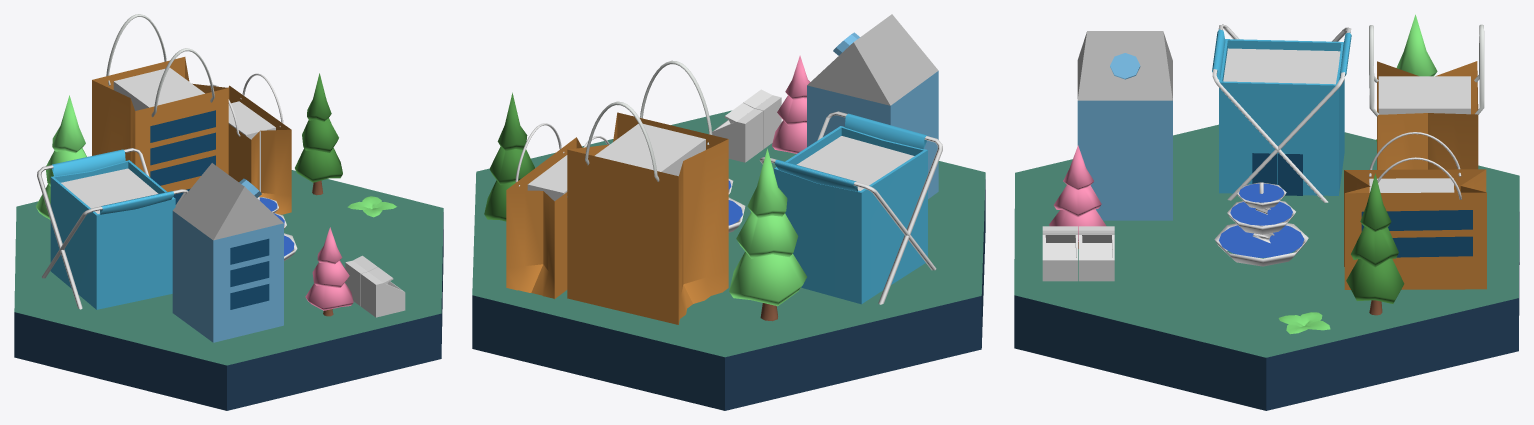
The model's file is Macro - Shop lvl 3 WM1.fbx.
3 views of the same model, side by side, from view 1: azimuth 30°, elevation 25°; view 2: azimuth 150°, elevation 25°; view 3: azimuth 270°, elevation 25° (orthographic). The views are drawn at different scales.
Parts seen in each view (by area): view 1: Cylinder.179, bathroom_item_001.001, milkbox1.012, Circle.006, Circle.005, Tree_Spruce_tiny_01.007, Tree_Spruce_tiny_01.001, Plane.122, Cube.138, Tree_Spruce_tiny_01.005, Cube.005, Plane.007 (+9 smaller); view 2: Cylinder.179, Circle.006, bathroom_item_001.001, milkbox1.012, Circle.005, Tree_Spruce_tiny_01.005, Cube.138, Plane.122, Tree_Spruce_tiny_01.007, Tree_Spruce_tiny_01.001, Cube.006, Cube.005 (+2 smaller); view 3: Cylinder.179, milkbox1.012, bathroom_item_001.001, Circle.005, Circle.006, Cube.018, Tree_Spruce_tiny_01.007, Plane.122, Cube.138, Tree_Spruce_tiny_01.001, Cube.005, Cube.006 (+7 smaller).
Boxes of the visible parts, <box> form: Cylinder.179: <box>14,170,443,410</box>; bathroom_item_001.001: <box>37,148,188,309</box>; milkbox1.012: <box>172,163,283,342</box>; Circle.006: <box>92,14,228,191</box>; Circle.005: <box>210,73,291,214</box>; Tree_Spruce_tiny_01.007: <box>295,73,342,195</box>; Tree_Spruce_tiny_01.001: <box>305,227,353,316</box>; Plane.122: <box>61,168,158,213</box>; Cube.138: <box>113,67,204,110</box>; Tree_Spruce_tiny_01.005: <box>36,95,86,219</box>; Cube.005: <box>360,267,405,317</box>; Plane.007: <box>150,110,215,142</box>; Cylinder.179: <box>472,110,985,410</box>; Circle.006: <box>567,60,728,324</box>; bathroom_item_001.001: <box>759,111,942,304</box>; milkbox1.012: <box>807,14,938,198</box>; Circle.005: <box>506,123,609,298</box>; Tree_Spruce_tiny_01.005: <box>729,148,806,321</box>; Cube.138: <box>595,124,705,176</box>; Plane.122: <box>796,136,914,190</box>; Tree_Spruce_tiny_01.007: <box>484,92,534,221</box>; Tree_Spruce_tiny_01.001: <box>772,55,810,153</box>; Cube.006: <box>712,103,763,162</box>; Cube.005: <box>743,89,781,149</box>; Cylinder.179: <box>1014,124,1519,410</box>; milkbox1.012: <box>1077,31,1172,220</box>; bathroom_item_001.001: <box>1212,24,1351,202</box>; Circle.005: <box>1344,132,1486,289</box>; Circle.006: <box>1369,24,1484,169</box>; Cube.018: <box>1214,182,1308,266</box>; Tree_Spruce_tiny_01.007: <box>1346,173,1404,315</box>; Plane.122: <box>1223,48,1340,84</box>; Cube.138: <box>1378,76,1470,114</box>; Tree_Spruce_tiny_01.001: <box>1049,145,1106,248</box>; Cube.005: <box>1042,226,1078,281</box>; Cube.006: <box>1079,226,1114,281</box>.
Bounding box in the file's own units: 197 × 98.68 × 172.
